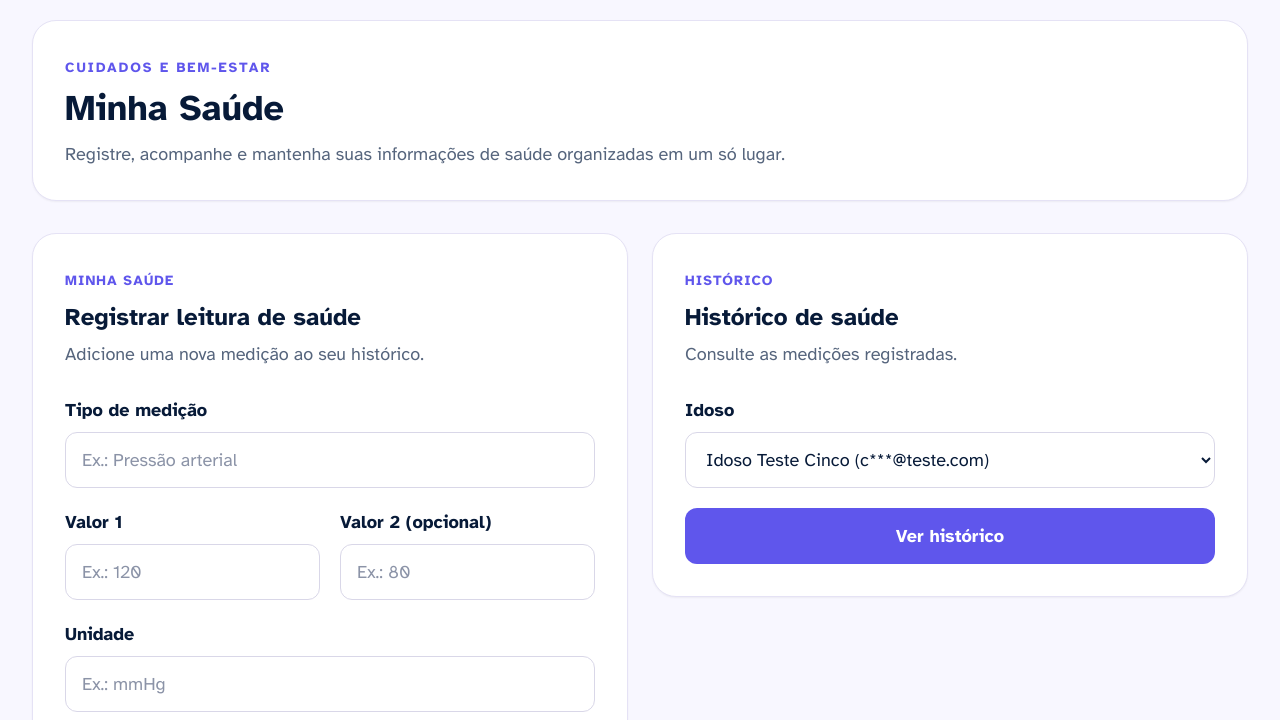
Saude — histórico › primeiro idoso vem pré-selecionado e o ID não é exibido nem digitável
Expected: the dropdown labelled "Idoso" shows "Idoso Teste Cinco (c***@teste.com)", [685, 432, 1215, 488]
Click the button "Ver histórico".
click(950, 536)  # box [685, 508, 1215, 564]
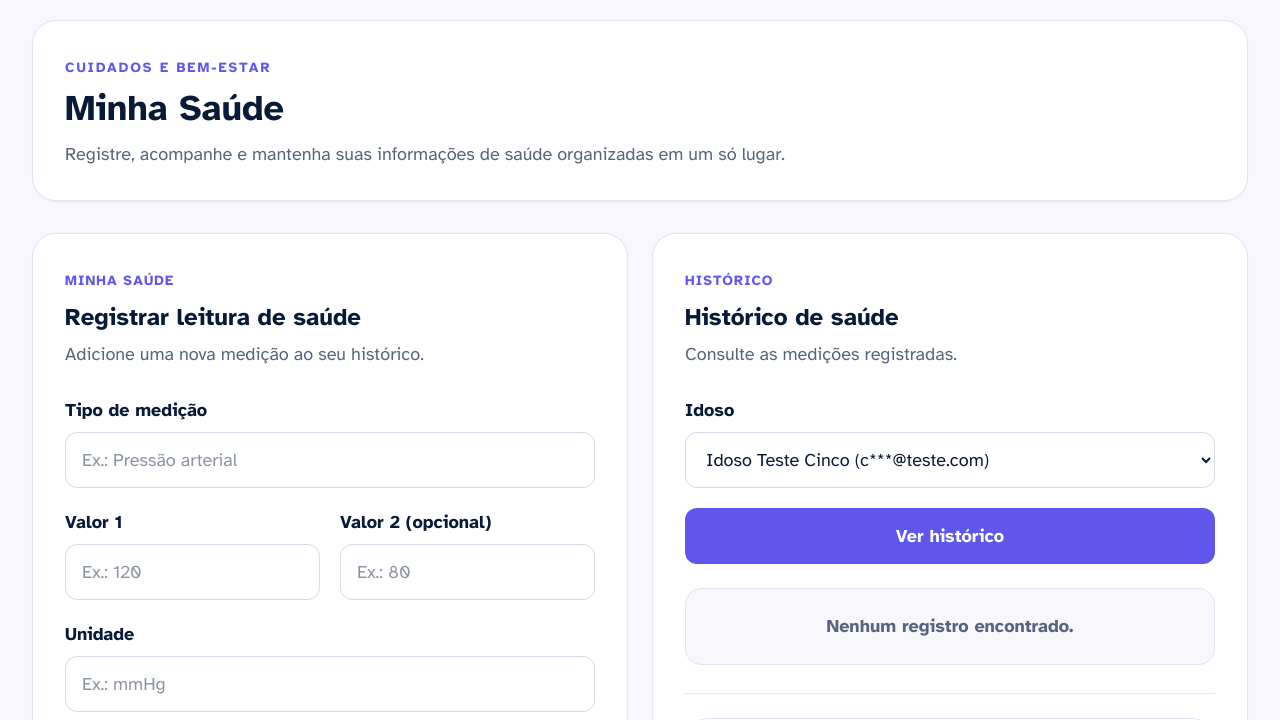
Expected: the text "Nenhum registro encontrado." is shown, [827, 615, 1073, 637]
